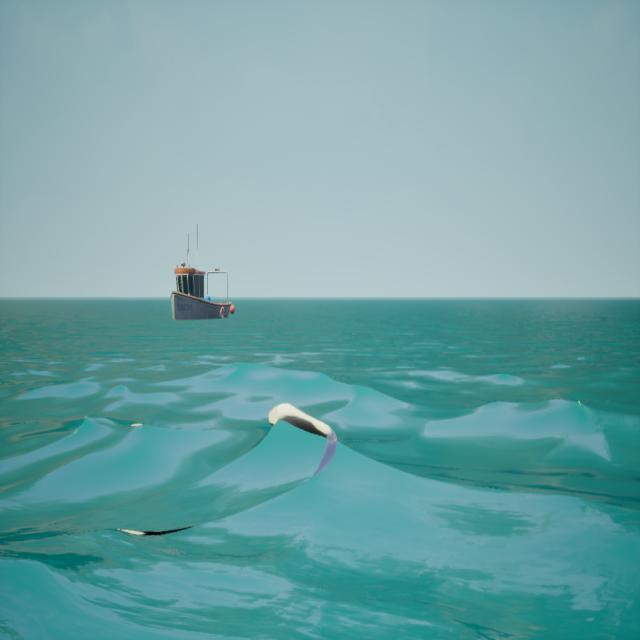ship: (170, 225, 233, 320)
